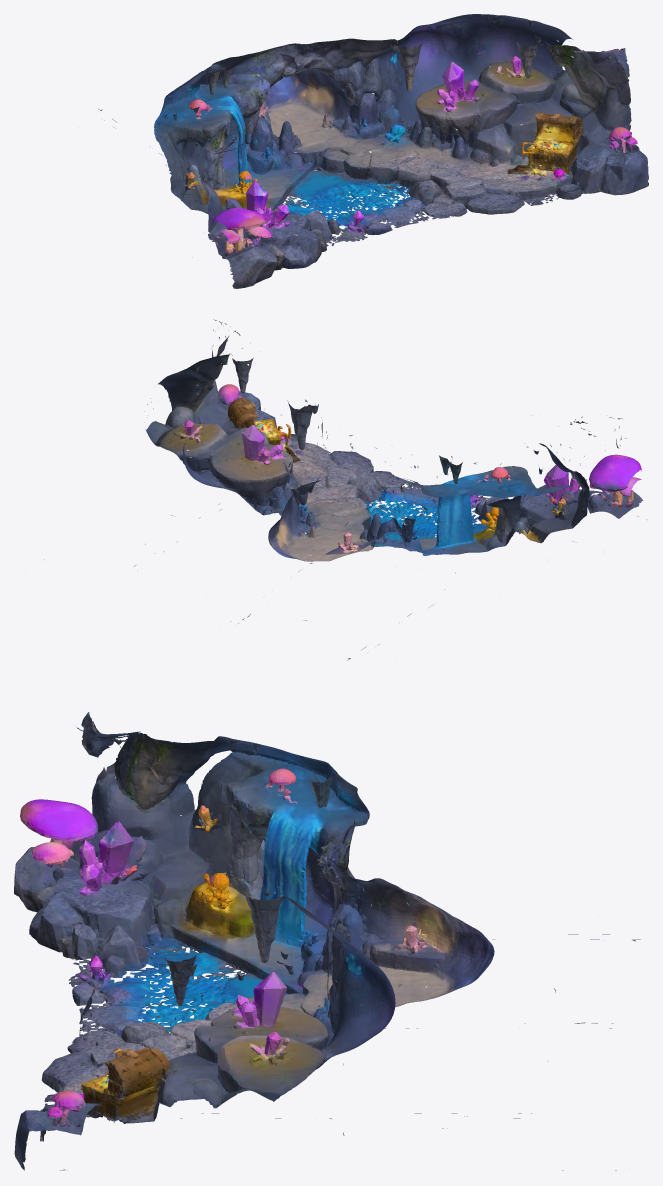
File: dio_caverna.glb
The picture shows the model from 3 angles, top to bottom: view 1: azimuth 30°, elevation 25°; view 2: azimuth 150°, elevation 25°; view 3: azimuth 270°, elevation 25°; orthographic projection. The views are drawn at different scales.
Parts seen in each view (by area): view 1: plush; view 2: plush; view 3: plush.
Part boxes in pixels (x1=…): plush: x1=98, y1=14, x2=648, y2=288; plush: x1=44, y1=319, x2=646, y2=660; plush: x1=14, y1=712, x2=640, y2=1170.
Size of the model in its own units: 0.98 by 0.271 by 0.9019.
1 material, 1 textured.
